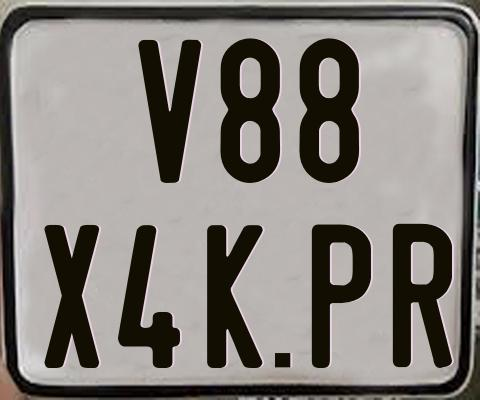4: (118, 223, 184, 372)
8: (217, 35, 283, 183), (297, 38, 359, 187)
K: (204, 222, 262, 367)
P: (310, 223, 370, 372)
R: (393, 223, 458, 369)
V: (137, 40, 205, 189)
X: (42, 224, 99, 367)
